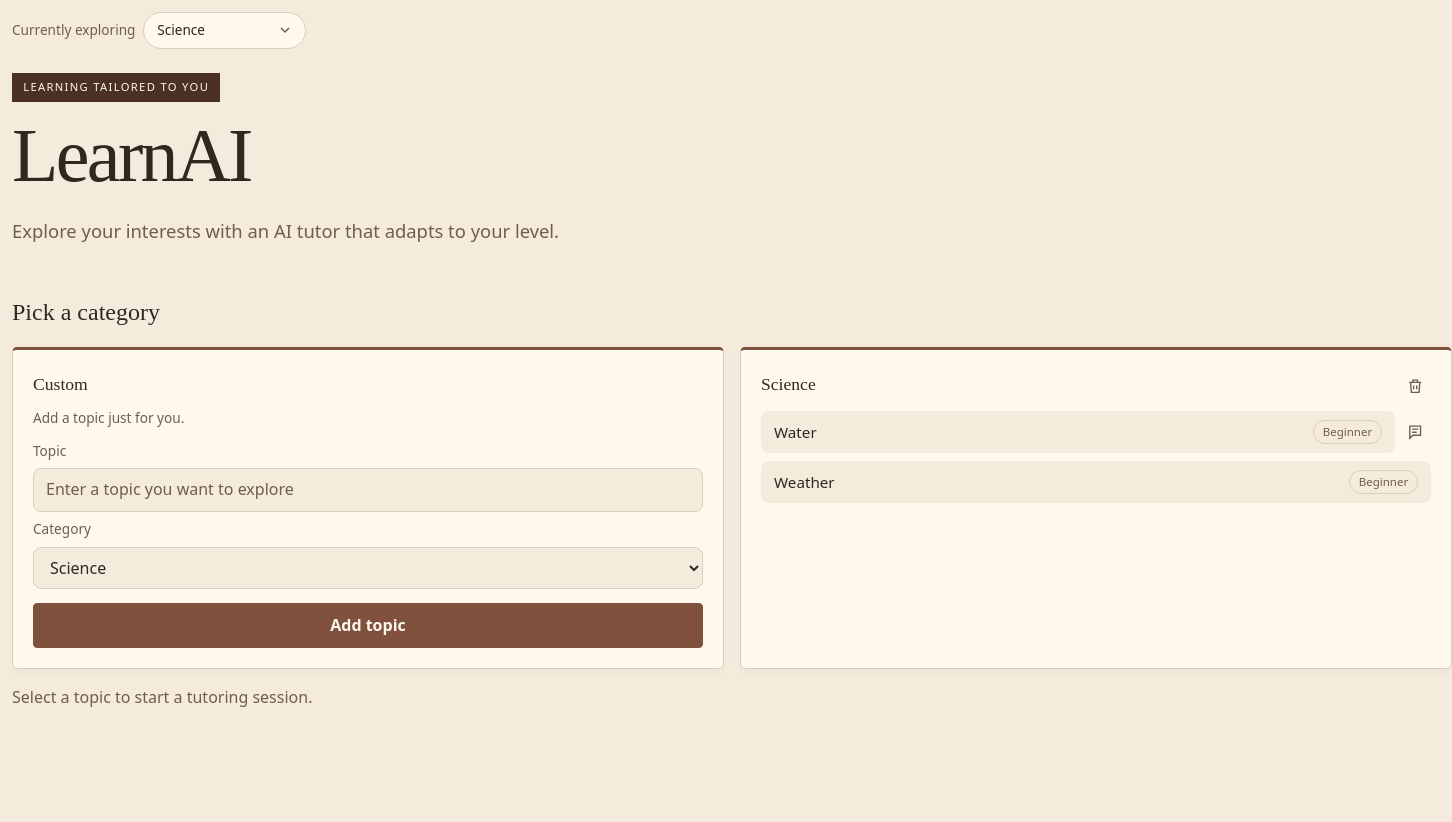
keeps the conversation open on save failure and retries before switching topics
The width and height of the screenshot is (1452, 822).
Click the button "Water Beginner": (795, 432) x1=761 y1=411 x2=1395 y2=453
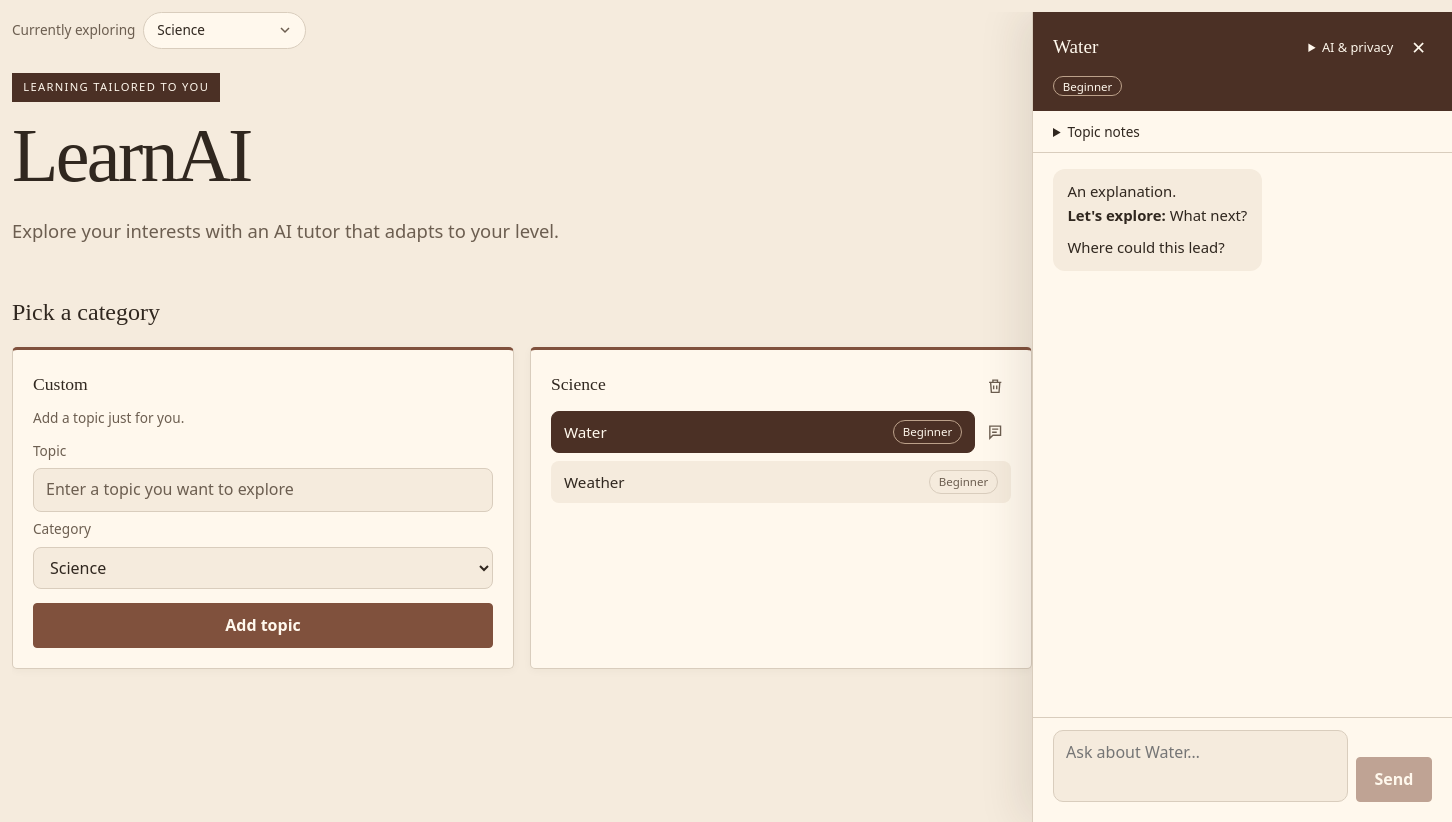
Expected: the text "An explanation." is shown, x1=1067 y1=181 x2=1176 y2=201
Click the heading "Topic notes": (1104, 131) x1=1067 y1=122 x2=1140 y2=140
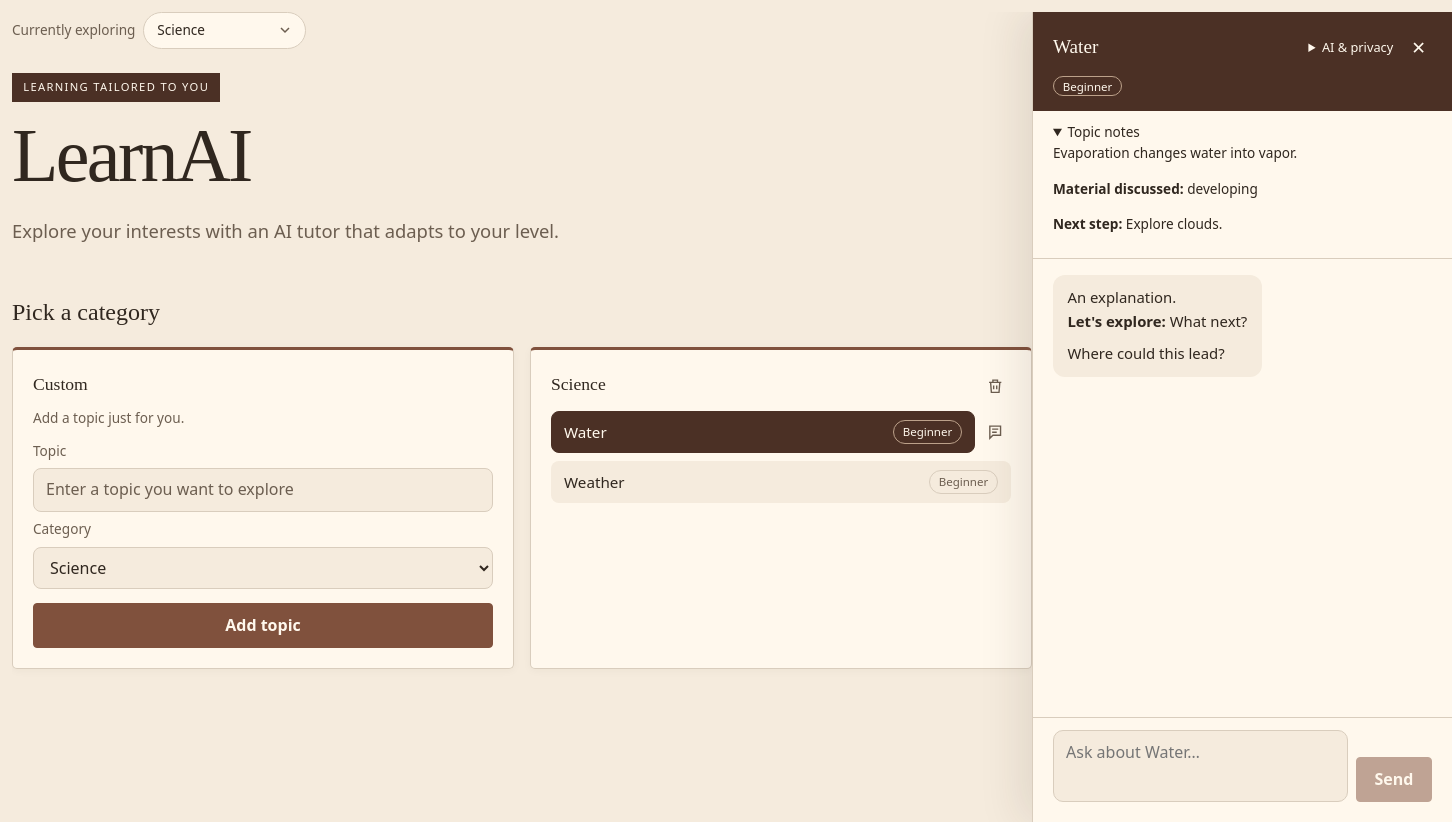
Expected: the text "Evaporation changes water into vapor." is shown, x1=1053 y1=143 x2=1297 y2=162
In the text box with placeholder "Ask about Water…": (1200, 766) x1=1053 y1=730 x2=1348 y2=802, type "How does evaporation work?"
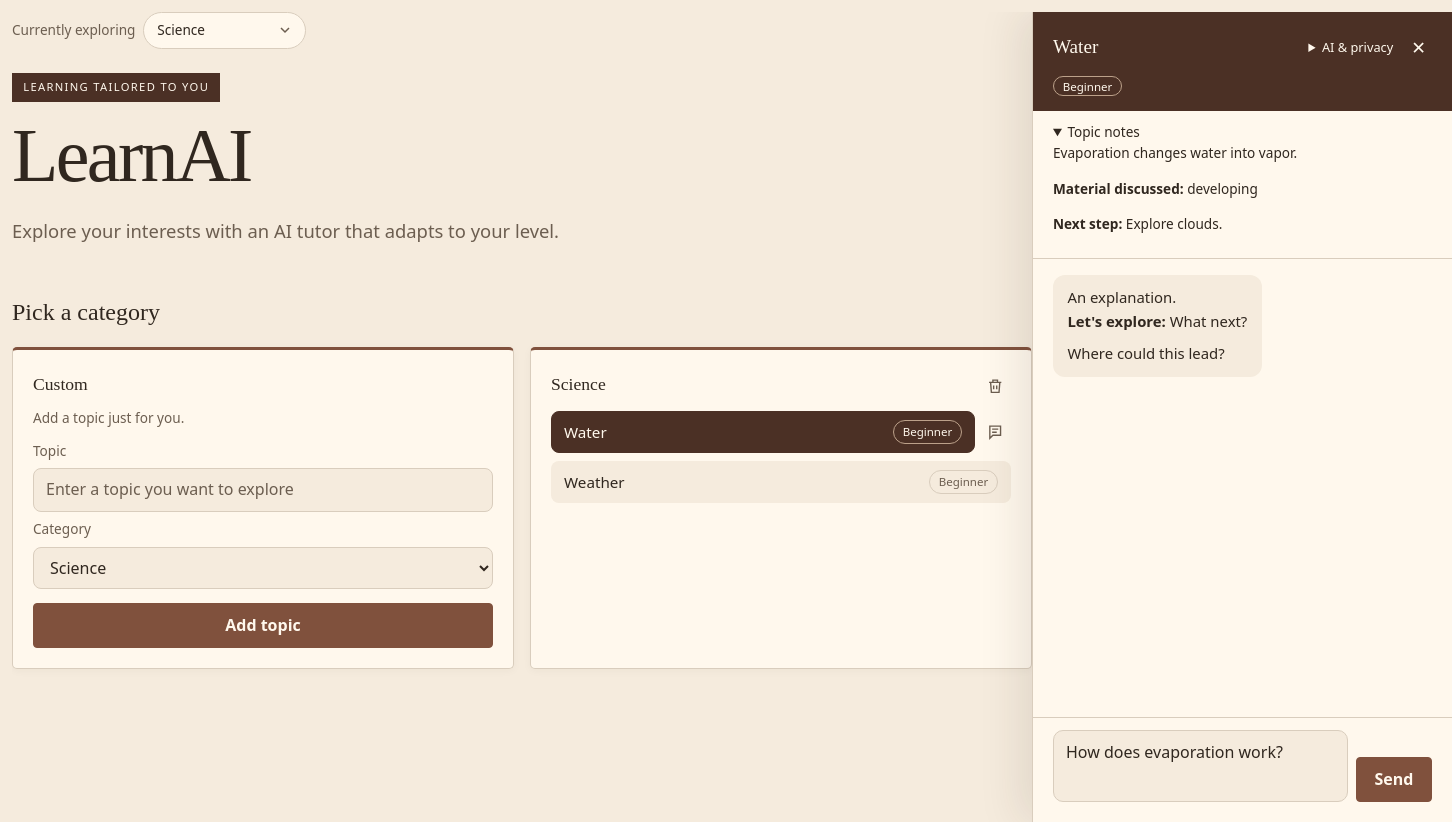
Click the button "Send": (1394, 779) x1=1356 y1=757 x2=1432 y2=802
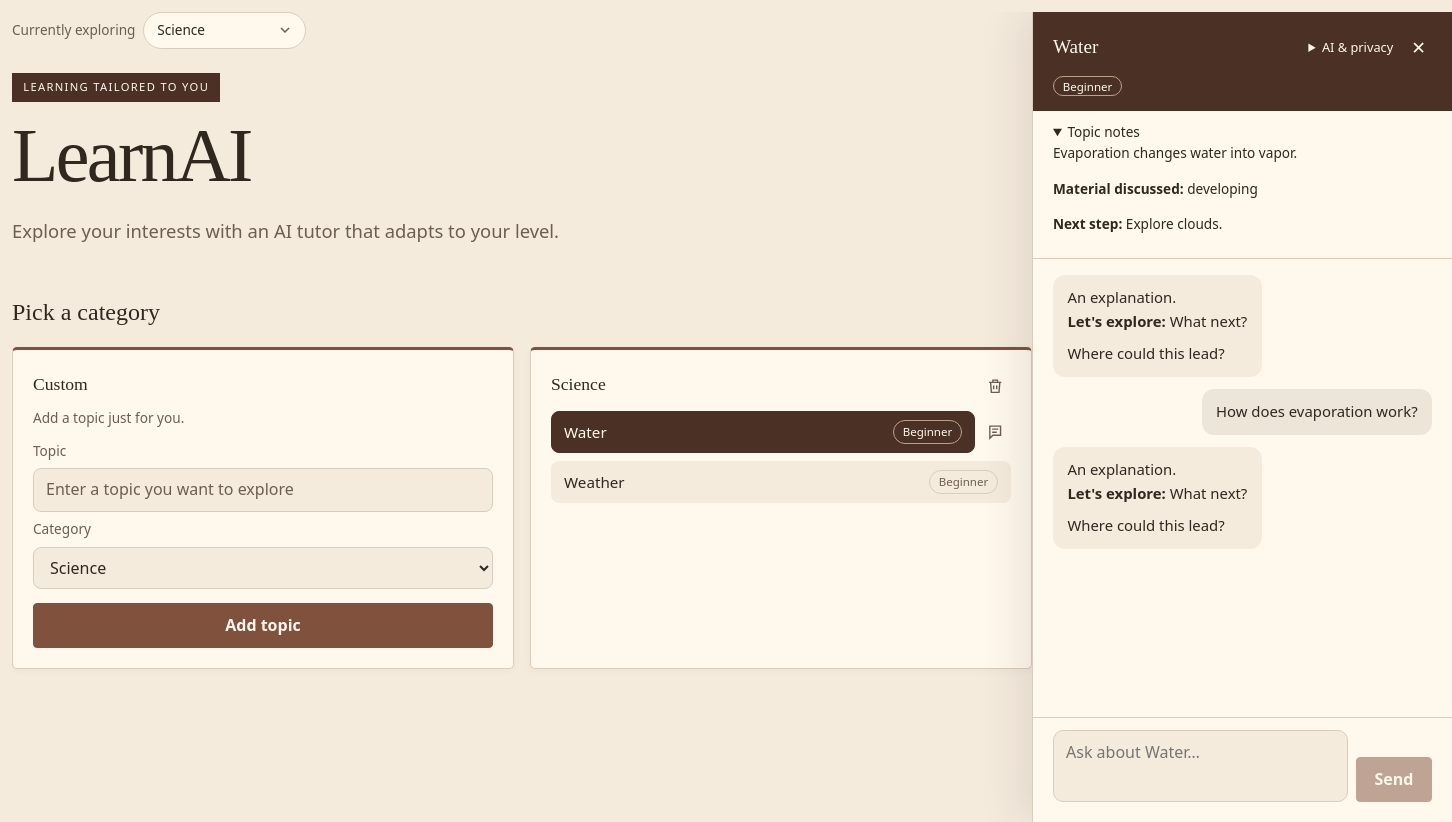
Expected: the text "An explanation." is shown 2 times, x1=1067 y1=287 x2=1176 y2=307; x1=1067 y1=459 x2=1176 y2=479
Click the button "Weather Beginner": (594, 482) x1=551 y1=461 x2=1011 y2=503
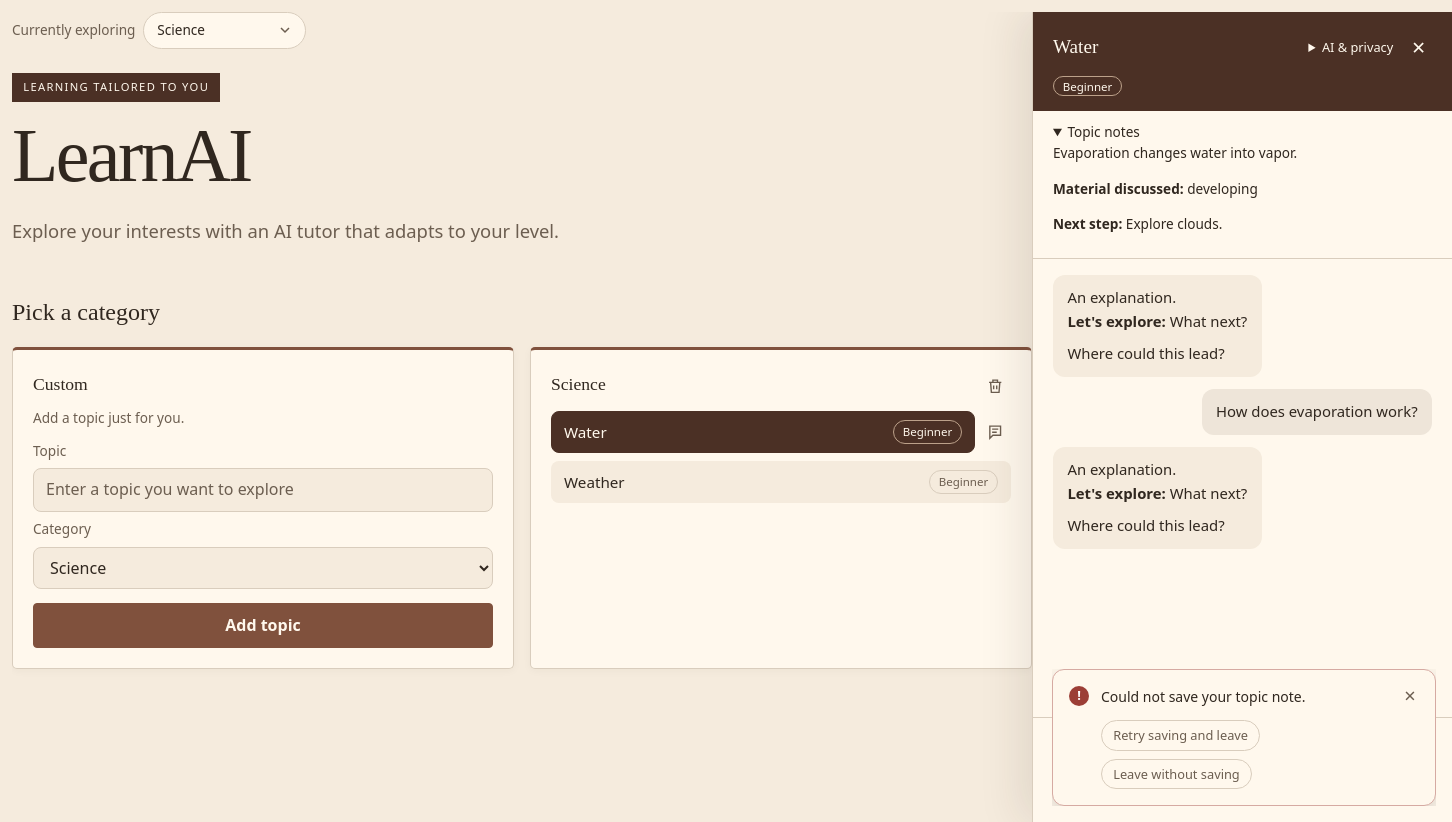
Expected: the heading "Water" is shown, x1=1053 y1=36 x2=1098 y2=57
Expected: the message reads "Could not save your topic note.", x1=1101 y1=687 x2=1306 y2=706
Click the button "Retry saving and leave": (1181, 735) x1=1101 y1=720 x2=1260 y2=751
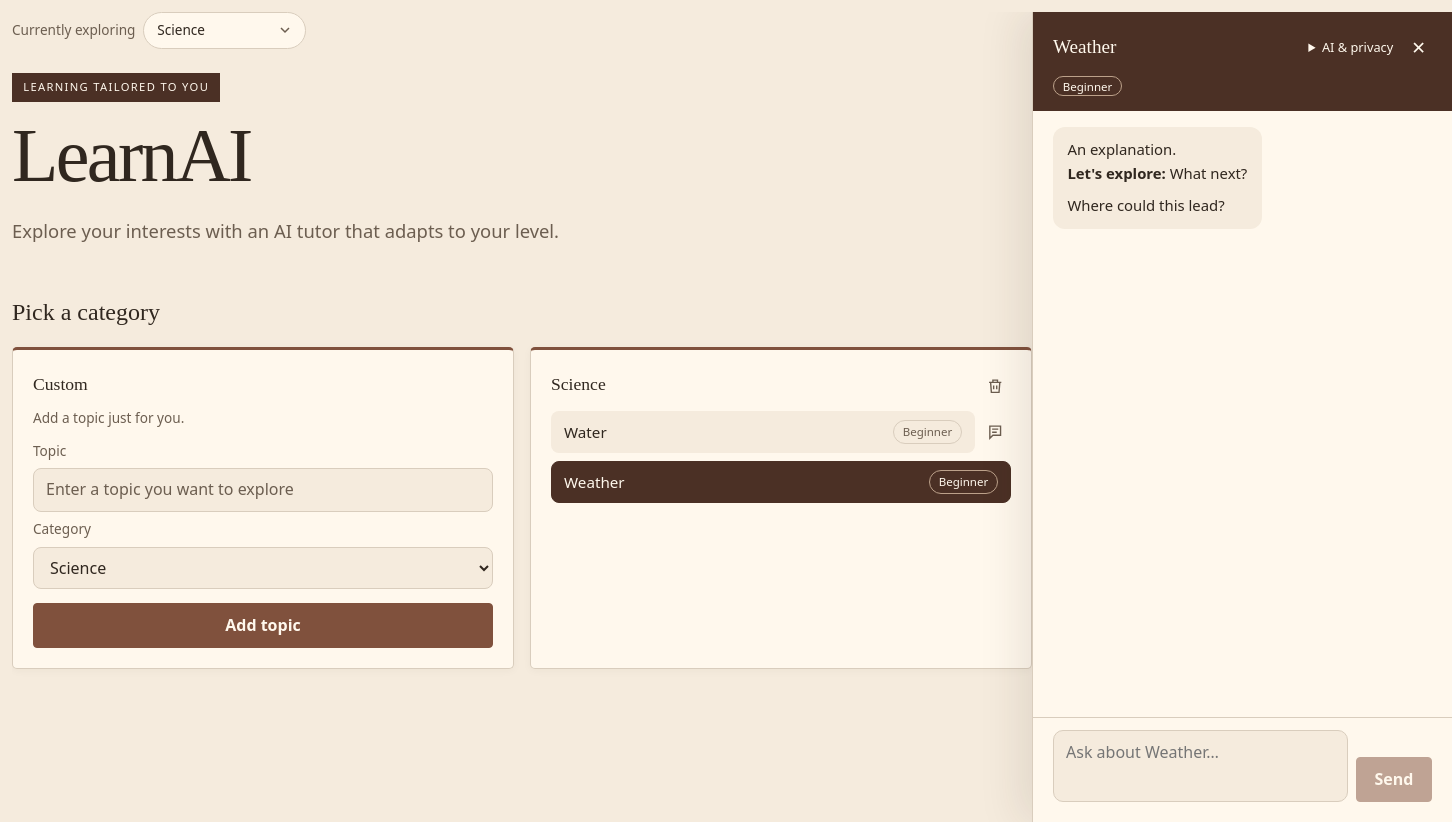
Expected: the heading "Weather" is shown, x1=1053 y1=32 x2=1122 y2=63
